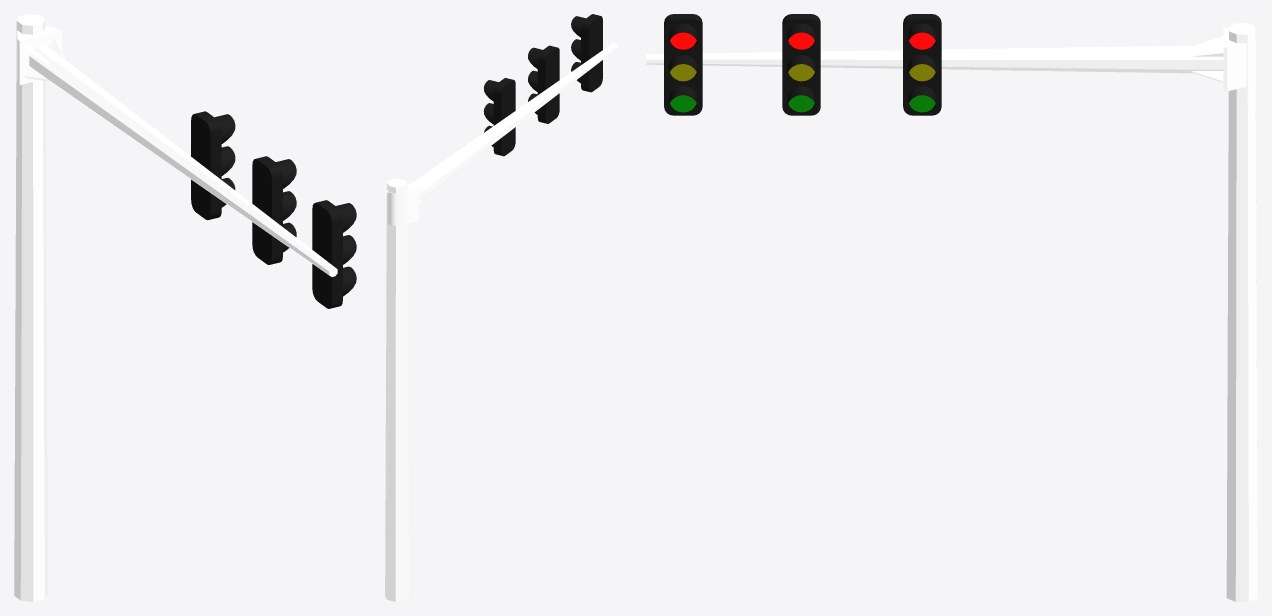
The picture shows the model from 3 angles, left to right: view 1: azimuth 30°, elevation 25°; view 2: azimuth 150°, elevation 25°; view 3: azimuth 270°, elevation 25°; orthographic projection. The views are drawn at different scales.
Visible parts, largest first — view 1: pCylinder17, polySurface148, polySurface159, polySurface165, polySurface155, polySurface149; view 2: pCylinder17, polySurface148, polySurface159, polySurface165, polySurface155, polySurface149; view 3: pCylinder17, polySurface148, polySurface159, polySurface155, polySurface165, polySurface149.
Part boxes in pixels (box(x1,y1,x2,y2)): pCylinder17: box(14, 14, 47, 601); polySurface148: box(24, 38, 337, 276); polySurface159: box(312, 200, 356, 308); polySurface165: box(252, 156, 296, 264); polySurface155: box(191, 111, 235, 220); polySurface149: box(17, 26, 61, 85); pCylinder17: box(385, 179, 409, 601); polySurface148: box(407, 42, 617, 204); polySurface159: box(571, 14, 602, 92); polySurface165: box(528, 45, 559, 123); polySurface155: box(483, 78, 515, 156); polySurface149: box(387, 181, 419, 226); pCylinder17: box(1226, 23, 1257, 601); polySurface148: box(646, 36, 1223, 82); polySurface159: box(664, 14, 702, 115); polySurface155: box(903, 14, 941, 115); polySurface165: box(782, 14, 820, 115); polySurface149: box(1223, 27, 1256, 91).
Size of the model in its own units: 0.6835 by 6.71 by 6.36.
